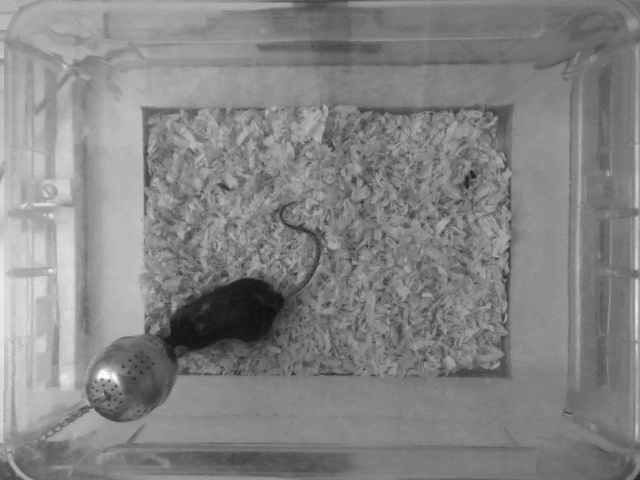mice: (160, 197, 325, 360)
